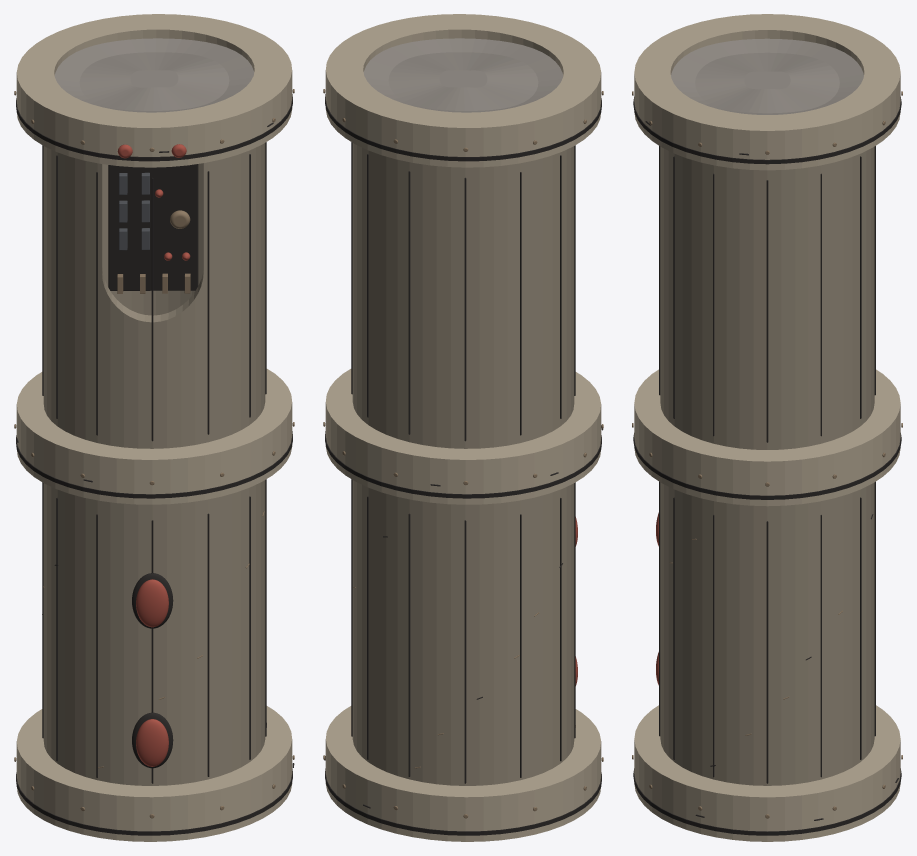
Rendered from power-amplifier.glb.
3 views of the same model, side by side, from view 1: azimuth 30°, elevation 25°; view 2: azimuth 150°, elevation 25°; view 3: azimuth 270°, elevation 25° (orthographic).
Visible parts, largest first — view 1: Lower central chamber shell, Upper central chamber shell, Top amplifier collar, Bottom amplifier collar, Middle amplifier collar, Distorted top reflector, Dark generator panel backing, Bottom collar recessed seam, Middle collar recessed seam, Top collar recessed seam, Optical coupling red lens 0, Optical coupling red lens 1 (+5 smaller); view 2: Upper central chamber shell, Lower central chamber shell, Top amplifier collar, Bottom amplifier collar, Middle amplifier collar, Distorted top reflector, Bottom collar recessed seam, Middle collar recessed seam, Top collar recessed seam, Long casing assembly joint.011, Long casing assembly joint.008, Long casing assembly joint.010 (+1 smaller); view 3: Upper central chamber shell, Lower central chamber shell, Top amplifier collar, Middle amplifier collar, Bottom amplifier collar, Distorted top reflector, Top collar recessed seam, Bottom collar recessed seam, Middle collar recessed seam, Long casing assembly joint.003, Long casing assembly joint.002, Long casing assembly joint.001 (+7 smaller).
Part boxes in pixels (left/top/right/bottom): Lower central chamber shell: left=43, top=480, right=265, bottom=785; Upper central chamber shell: left=43, top=143, right=265, bottom=448; Top amplifier collar: left=16, top=14, right=292, bottom=167; Bottom amplifier collar: left=16, top=706, right=292, bottom=841; Middle amplifier collar: left=16, top=369, right=292, bottom=504; Distorted top reflector: left=54, top=38, right=254, bottom=112; Dark generator panel backing: left=108, top=164, right=198, bottom=290; Bottom collar recessed seam: left=16, top=768, right=292, bottom=835; Middle collar recessed seam: left=16, top=431, right=292, bottom=498; Top collar recessed seam: left=16, top=94, right=292, bottom=161; Optical coupling red lens 0: left=136, top=579, right=168, bottom=627; Optical coupling red lens 1: left=136, top=719, right=168, bottom=766; Upper central chamber shell: left=352, top=143, right=574, bottom=448; Lower central chamber shell: left=352, top=480, right=574, bottom=785; Top amplifier collar: left=325, top=14, right=601, bottom=167; Bottom amplifier collar: left=325, top=706, right=601, bottom=841; Middle amplifier collar: left=325, top=369, right=601, bottom=504; Distorted top reflector: left=363, top=38, right=563, bottom=112; Bottom collar recessed seam: left=325, top=768, right=601, bottom=835; Middle collar recessed seam: left=325, top=431, right=601, bottom=498; Top collar recessed seam: left=325, top=94, right=601, bottom=161; Long casing assembly joint.011: left=464, top=177, right=466, bottom=441; Long casing assembly joint.008: left=408, top=513, right=410, bottom=776; Long casing assembly joint.010: left=464, top=520, right=466, bottom=783; Upper central chamber shell: left=660, top=146, right=874, bottom=449; Lower central chamber shell: left=660, top=482, right=874, bottom=785; Top amplifier collar: left=634, top=14, right=900, bottom=170; Middle amplifier collar: left=634, top=369, right=900, bottom=506; Bottom amplifier collar: left=634, top=705, right=900, bottom=841; Distorted top reflector: left=671, top=38, right=863, bottom=114; Top collar recessed seam: left=633, top=97, right=901, bottom=164; Bottom collar recessed seam: left=633, top=768, right=901, bottom=835; Middle collar recessed seam: left=633, top=433, right=901, bottom=499; Long casing assembly joint.003: left=766, top=180, right=768, bottom=442; Long casing assembly joint.002: left=766, top=521, right=768, bottom=783; Long casing assembly joint.001: left=713, top=173, right=714, bottom=436.
Size of the model in its own units: 0.9734 by 2.71 by 0.936.
